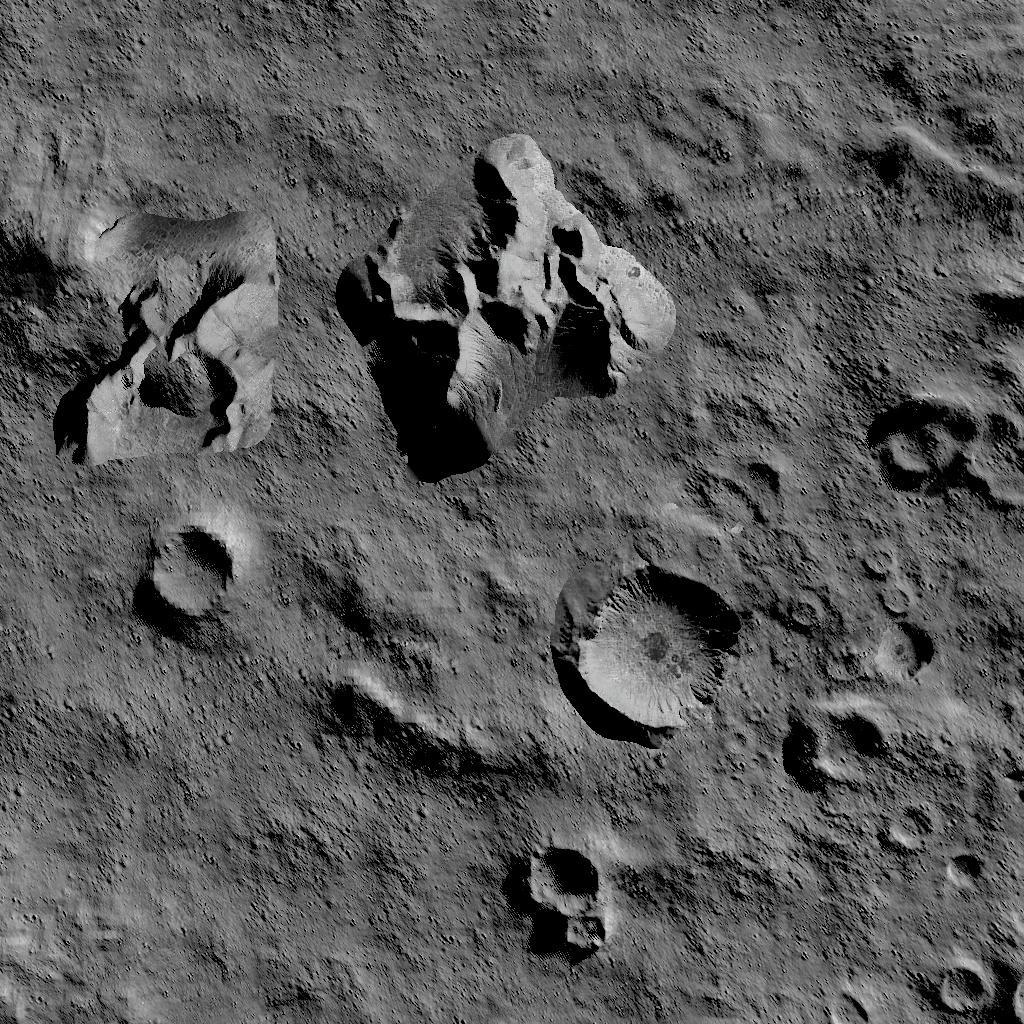Boulders: (333, 130, 676, 478), (1, 186, 285, 468)
Crater: (567, 562, 735, 740), (861, 388, 1024, 516), (520, 835, 615, 953), (141, 517, 237, 625), (800, 698, 898, 788), (931, 952, 1024, 1024), (856, 616, 935, 686), (872, 802, 930, 849), (816, 981, 872, 1024), (942, 846, 986, 890), (780, 594, 823, 632)
Plan surface: (3, 640, 338, 1024), (343, 0, 1024, 114), (3, 0, 325, 176), (691, 126, 845, 463), (351, 756, 506, 1024)
